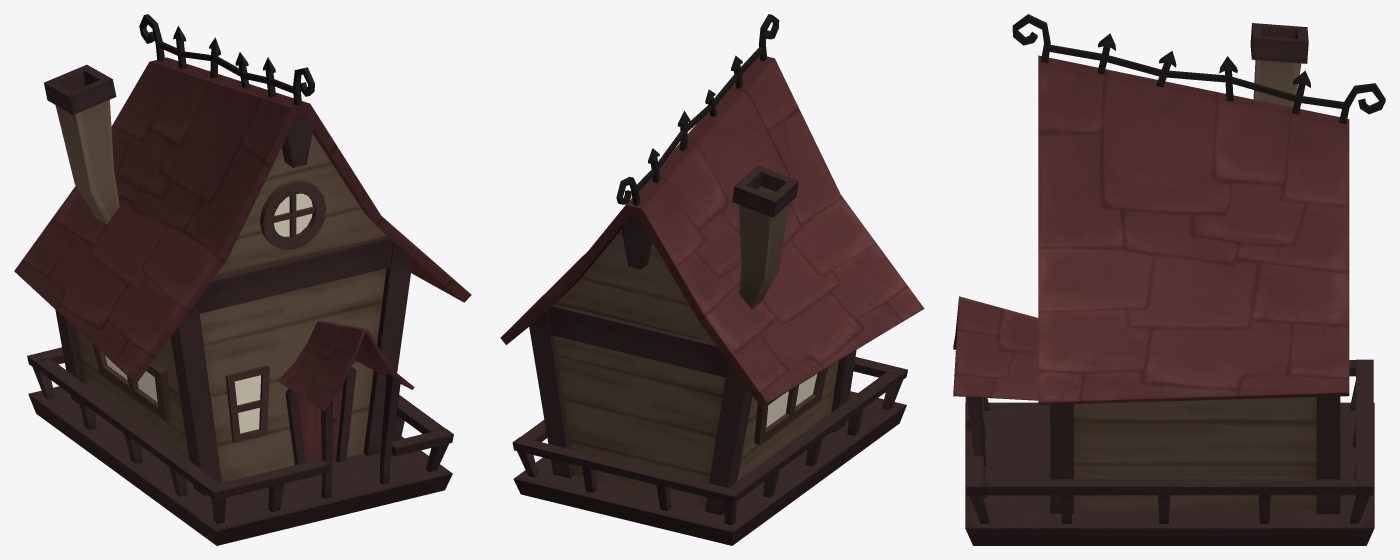
Rendered from House1.fbx.
3 views of the same model, side by side, from view 1: azimuth 30°, elevation 25°; view 2: azimuth 150°, elevation 25°; view 3: azimuth 270°, elevation 25° (orthographic). The views are drawn at different scales.
Visible parts, largest first — view 1: House1_, House1window_; view 2: House1_, House1window_; view 3: House1_.
Part boxes in pixels (left/top/right/bottom): House1_: left=14, top=14, right=471, bottom=545; House1window_: left=105, top=193, right=312, bottom=433; House1_: left=500, top=14, right=924, bottom=545; House1window_: left=766, top=374, right=817, bottom=427; House1_: left=953, top=14, right=1385, bottom=545.
Size of the model in its own units: 318 by 384 by 320.
